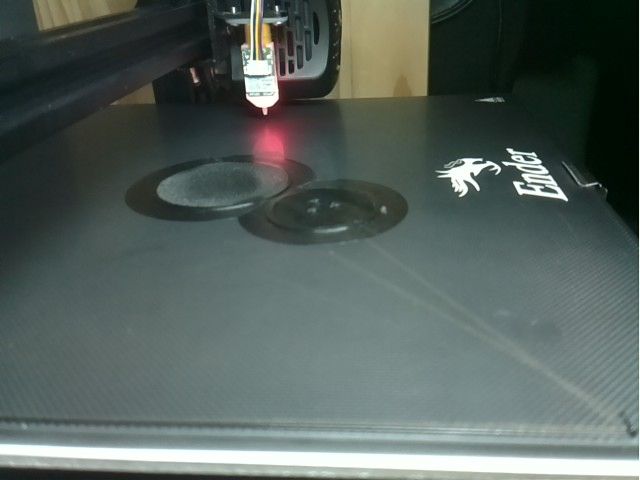left: (149, 126, 312, 226)
